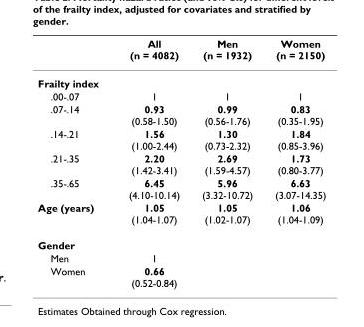table: (37, 37, 325, 288)
table column: (113, 37, 190, 288), (37, 37, 113, 288), (190, 37, 263, 288), (263, 37, 325, 288)
table column header: (37, 37, 325, 68)
table projected row header: (37, 68, 325, 89), (37, 231, 325, 251)
table row: (37, 37, 325, 68), (37, 200, 325, 231), (37, 126, 325, 151), (37, 151, 325, 176), (37, 102, 325, 126), (37, 176, 325, 200), (37, 264, 325, 288), (37, 68, 325, 89), (37, 231, 325, 251), (37, 89, 325, 102), (37, 251, 325, 264)
